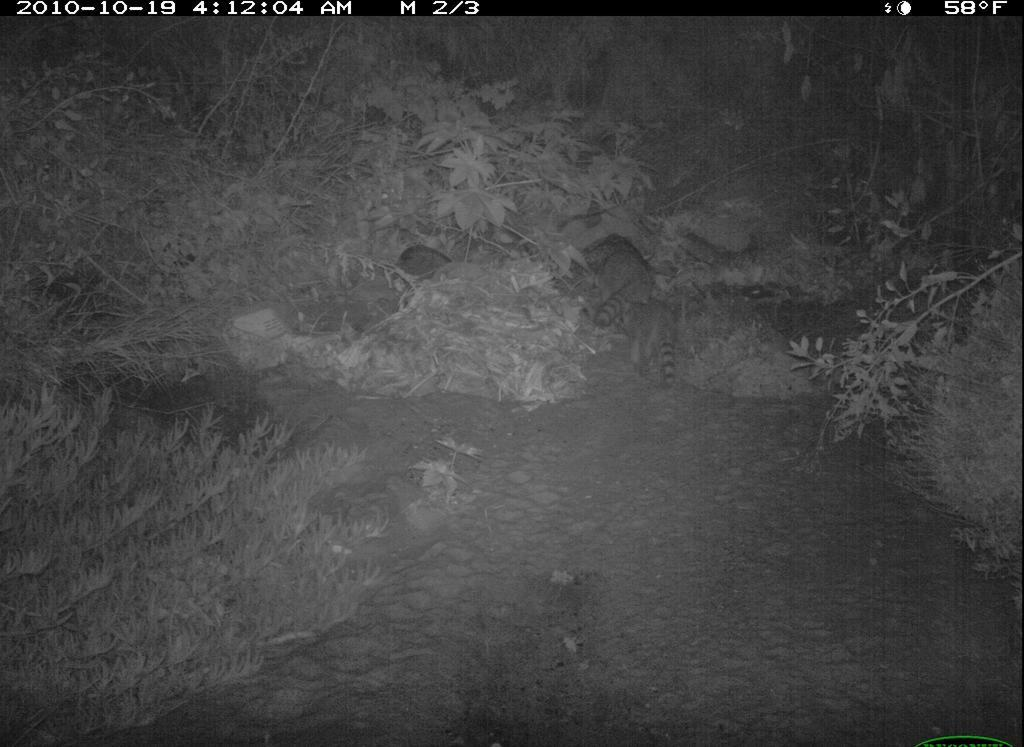raccoon: (628, 300, 701, 401), (585, 239, 652, 340)
